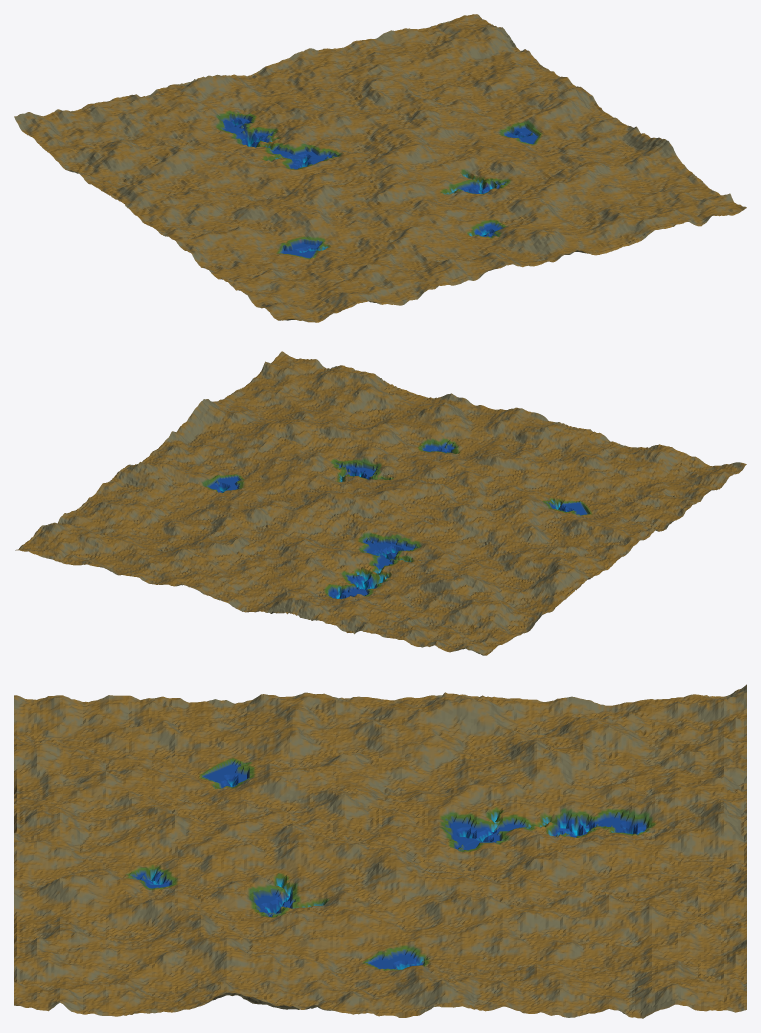
The model's file is terrain_FORREST.obj.
The picture shows the model from 3 angles, top to bottom: view 1: azimuth 30°, elevation 25°; view 2: azimuth 150°, elevation 25°; view 3: azimuth 270°, elevation 25°; orthographic projection. The views are drawn at different scales.
Visible parts, largest first — view 1: FORREST; view 2: FORREST; view 3: FORREST.
Boxes of the visible parts, left/top/right/bottom form: FORREST: left=14, top=14, right=746, bottom=322; FORREST: left=15, top=351, right=746, bottom=655; FORREST: left=14, top=684, right=746, bottom=1018.
Bounding box in the file's own units: 255 × 23.29 × 255.
Materials: 1 (1 with a texture image).
